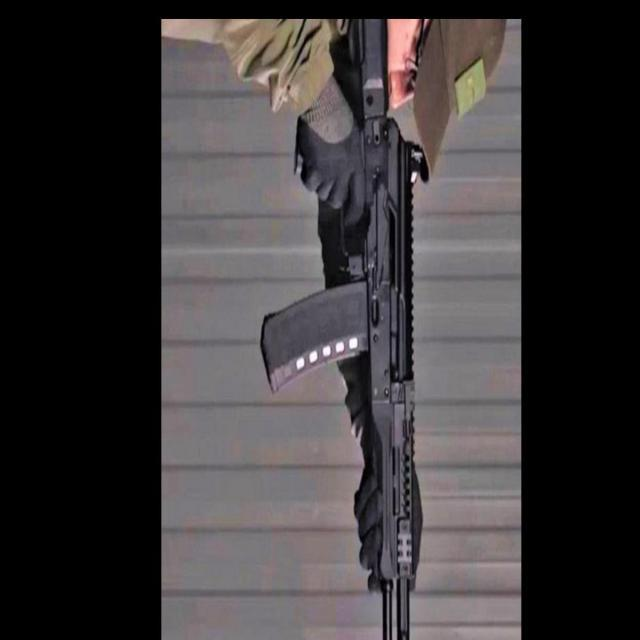weapon: (258, 19, 432, 640)
